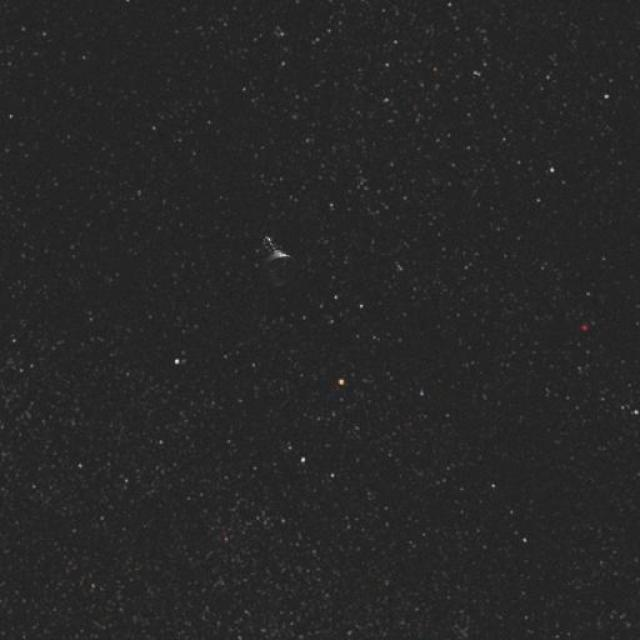debris: (240, 224, 310, 293)
